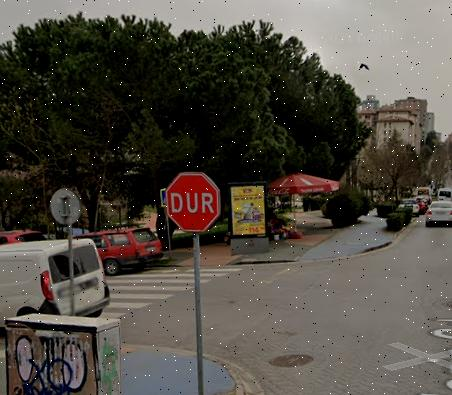stop: (170, 172, 220, 228)
